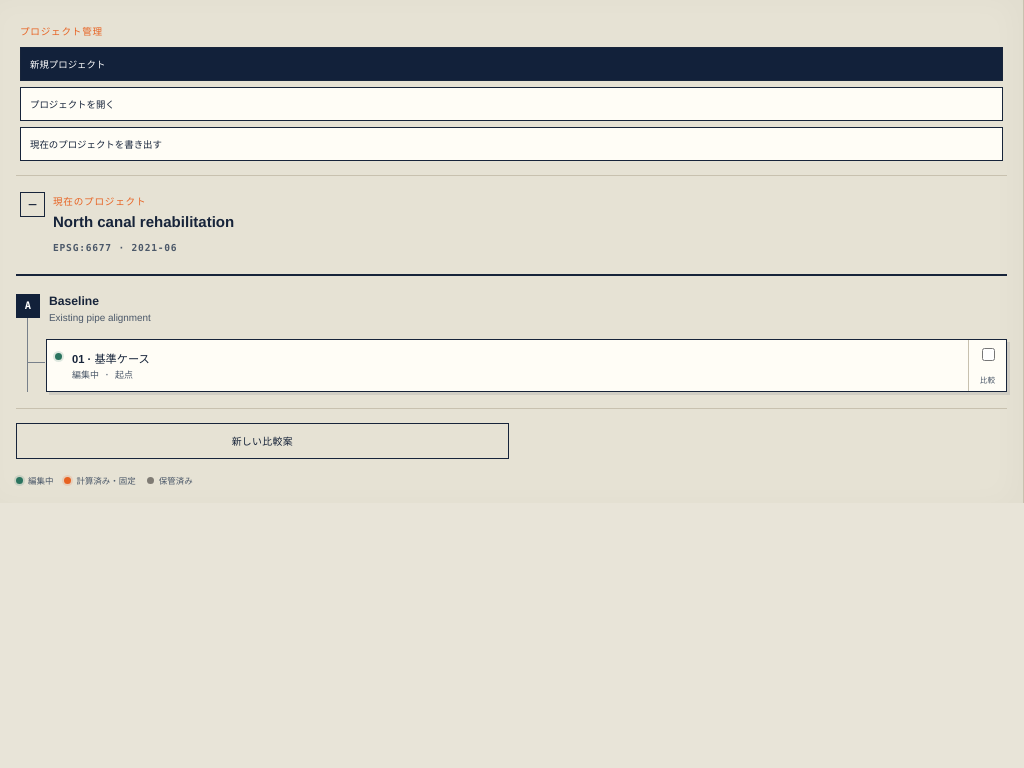
Test: WorkspaceTree Project management › exports the current Project from the left menu
Click the button "現在のプロジェクトを書き出す".
click(96, 144)  # box [20, 127, 1003, 161]
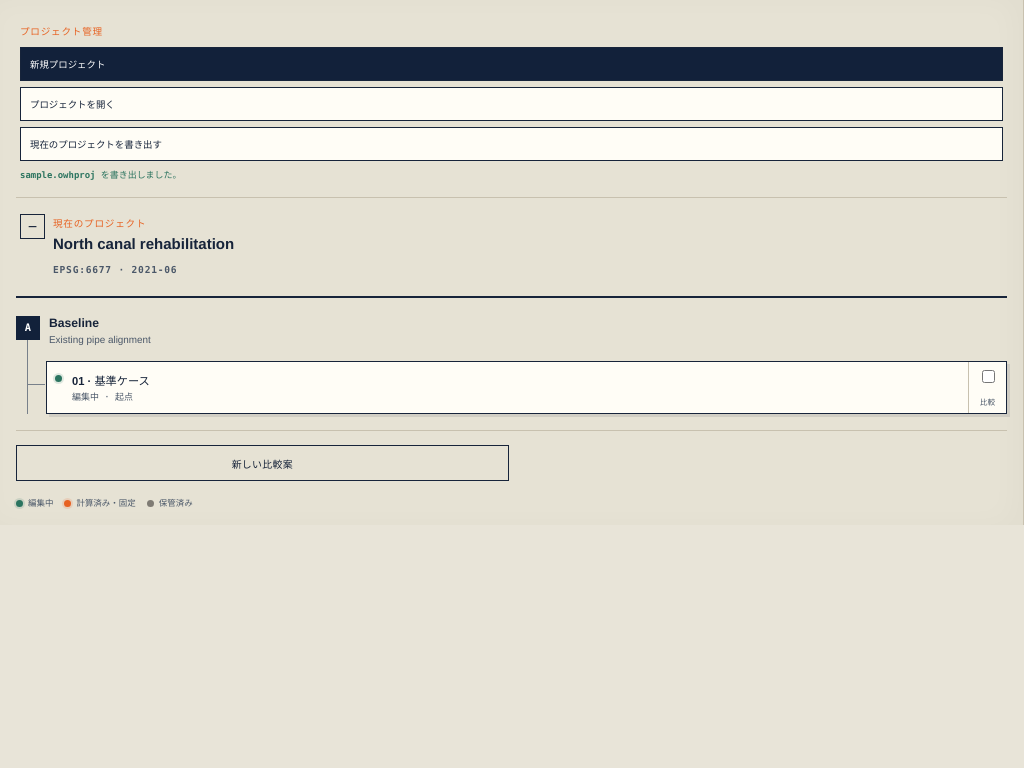
Now the message reads "sample.owhproj を書き出しました。", box [20, 171, 181, 181]
